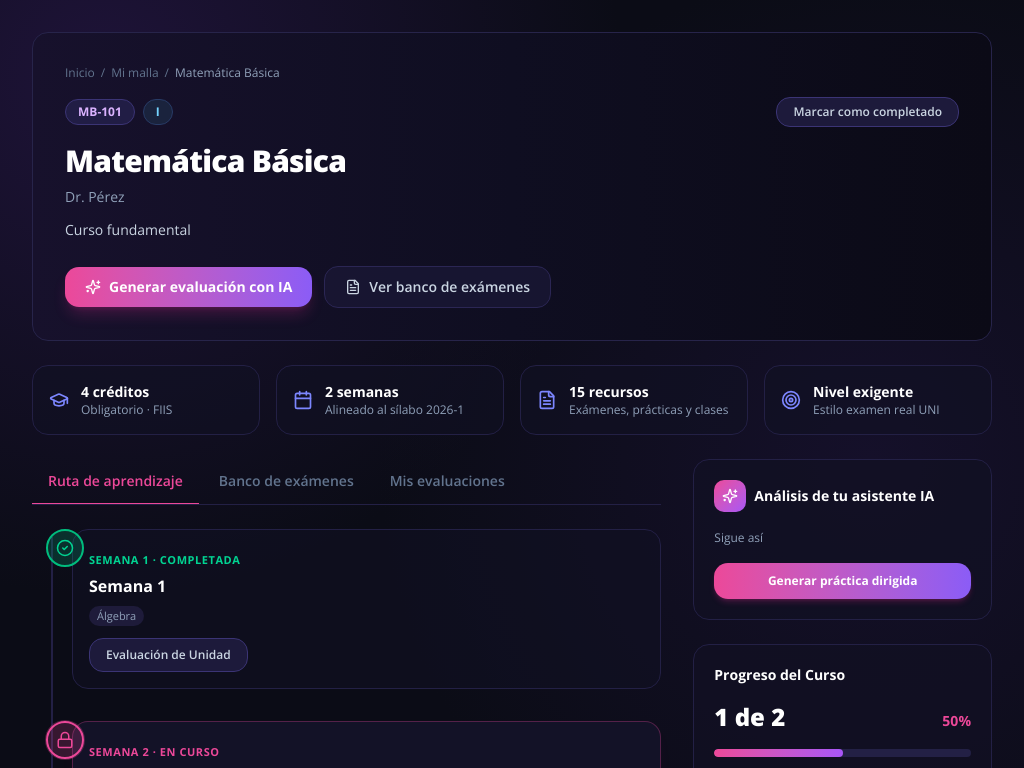
Test: HTML entity replacement › does not render HTML entities in the completeSuccess view
Step 1. Click the button "Marcar como completado" → (868, 112), box [776,97,959,127]
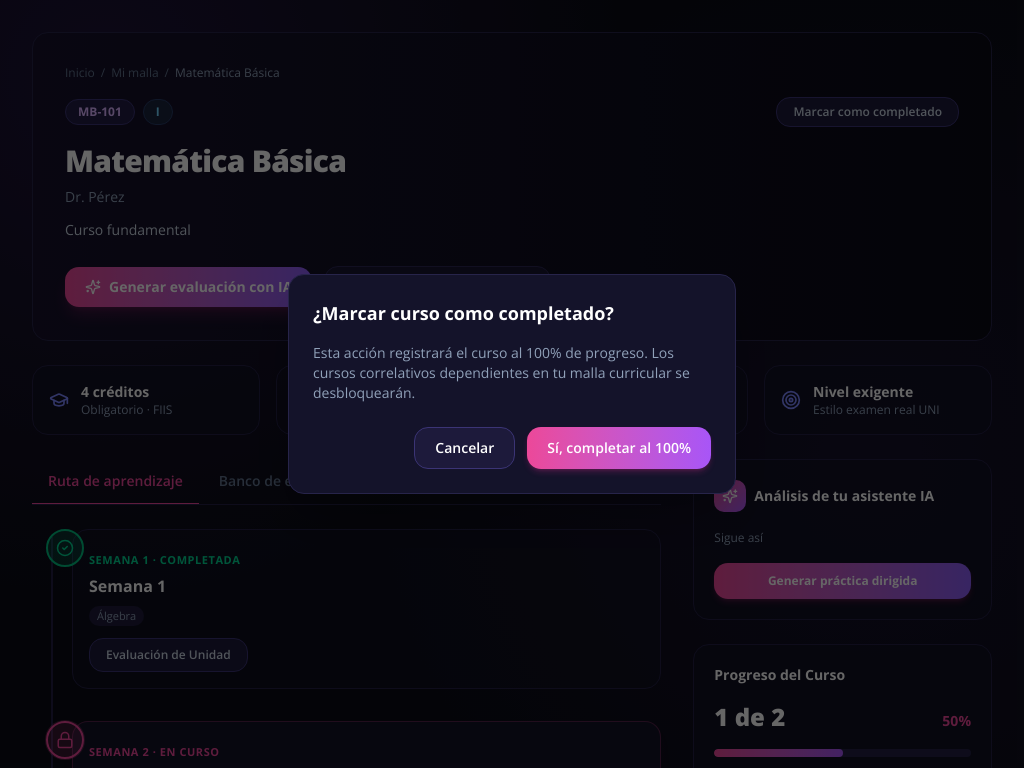
Step 2. Click the button "Sí, completar al 100%" → (619, 448), box [527,427,711,469]
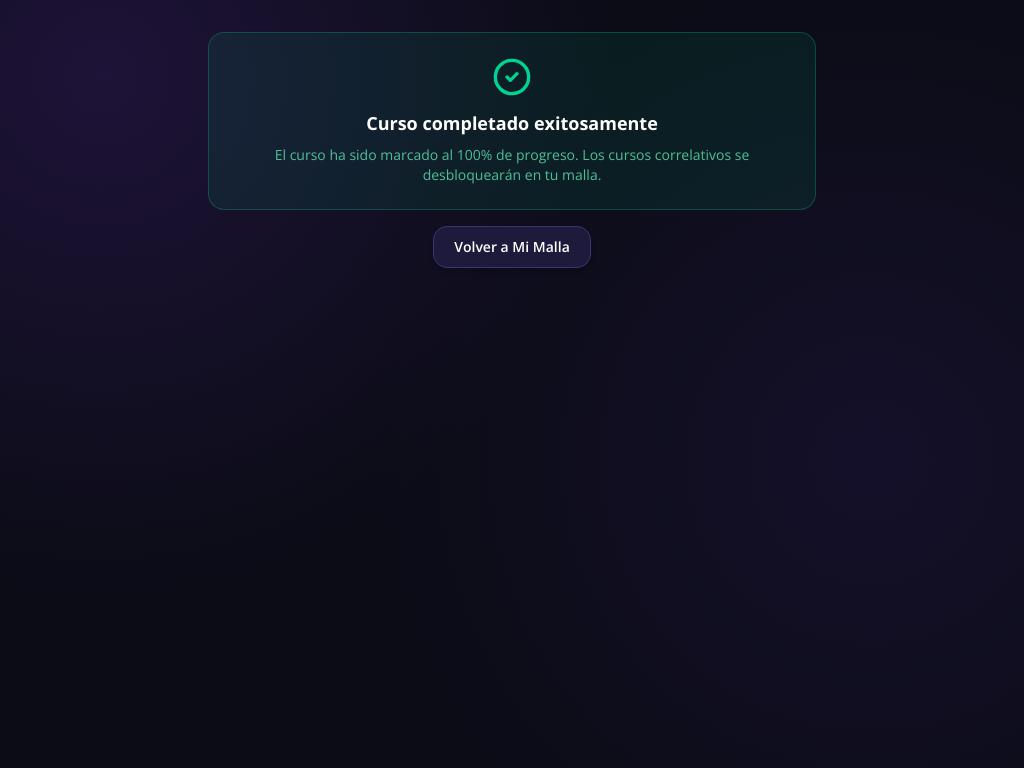
Check: the heading "Curso completado exitosamente" is shown, box [366,111,658,135]
